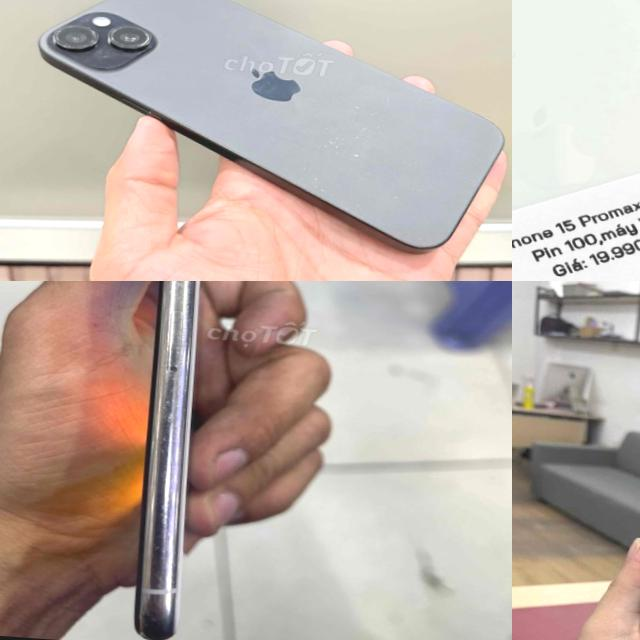gen_15: (16, 0, 512, 257), (512, 0, 640, 281)
gen_x_xs: (134, 281, 199, 640)
scratch: (134, 281, 198, 640), (306, 96, 391, 182), (48, 11, 156, 68), (304, 172, 416, 212)
